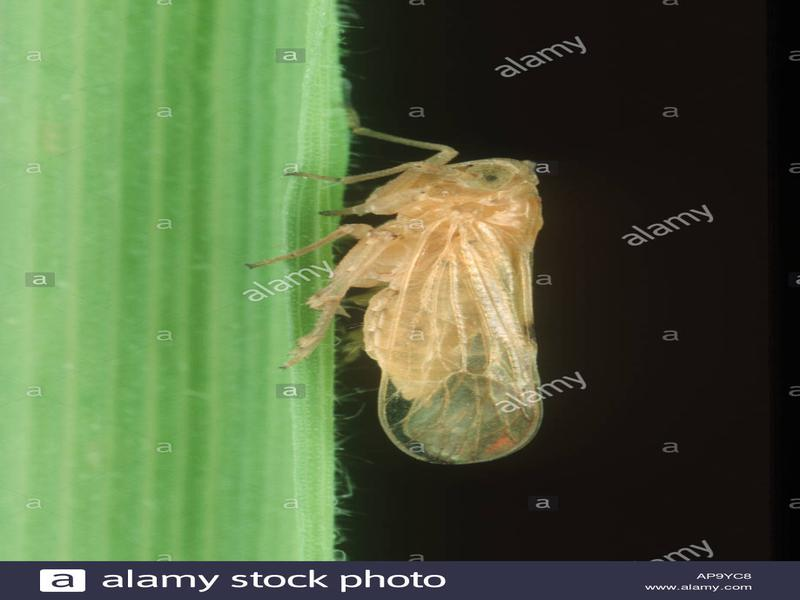Brown_plant_leafhopper: (278, 127, 597, 487)
